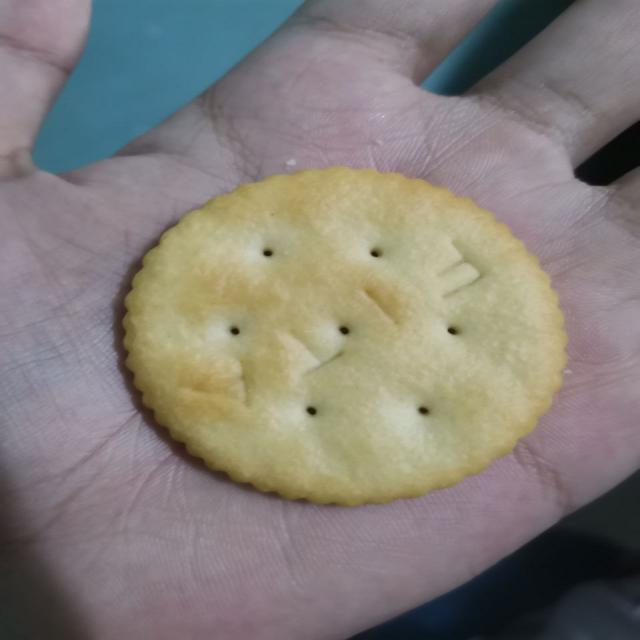intact biscuit: (118, 164, 571, 507)
